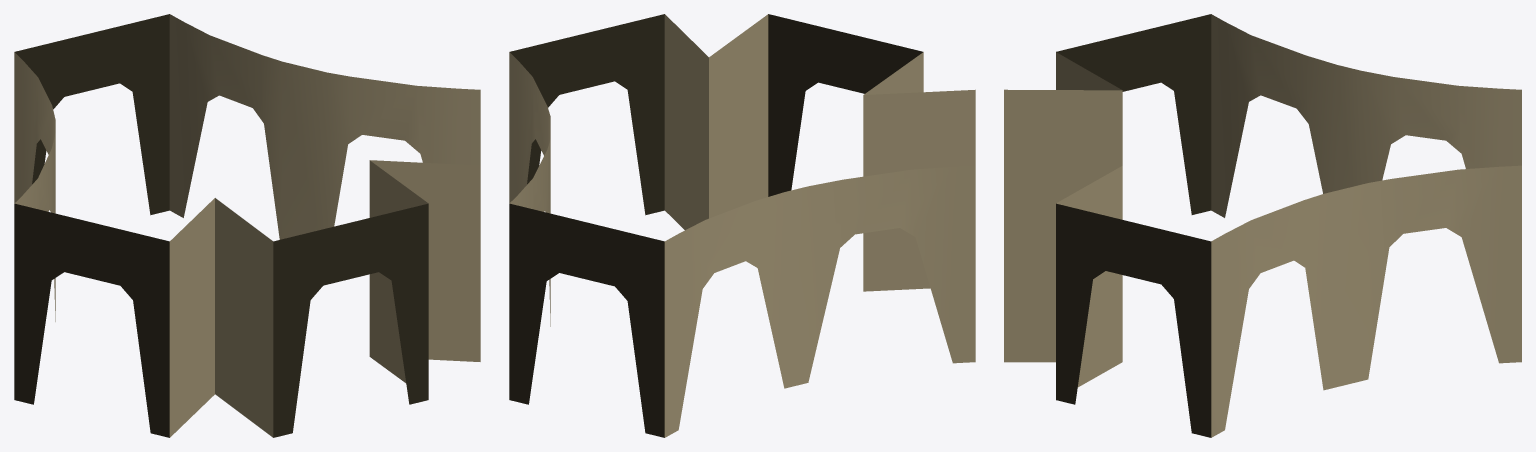
Rendered from Road_Tree_Bridge.fbx.
The picture shows the model from 3 angles, left to right: view 1: azimuth 30°, elevation 25°; view 2: azimuth 150°, elevation 25°; view 3: azimuth 270°, elevation 25°; orthographic projection.
Visible parts, largest first — view 1: Road_Tree_Bridge; view 2: Road_Tree_Bridge; view 3: Road_Tree_Bridge.
Part boxes in pixels (x1,y1,x2,y2): Road_Tree_Bridge: [14, 14, 480, 437]; Road_Tree_Bridge: [509, 14, 975, 437]; Road_Tree_Bridge: [1004, 14, 1521, 437].
Bounding box in the file's own units: 0.9 × 0.866 × 0.3627.
